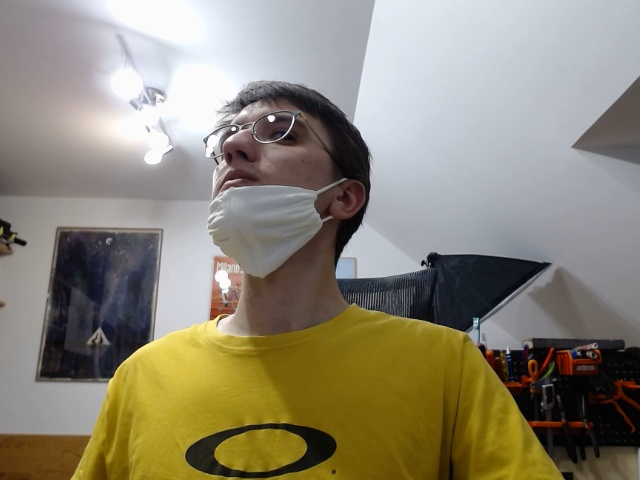WrongMask: (197, 76, 379, 288)
